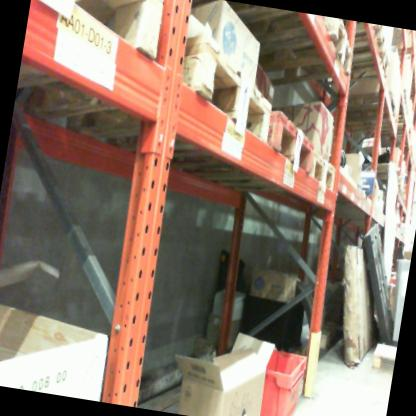pallet: (44, 5, 290, 171), (145, 85, 320, 185), (190, 0, 367, 83), (26, 0, 181, 68), (320, 80, 403, 136), (327, 20, 397, 79), (299, 145, 341, 201), (358, 157, 410, 195), (365, 333, 397, 382)
small_load_carrier: (239, 341, 323, 416)
